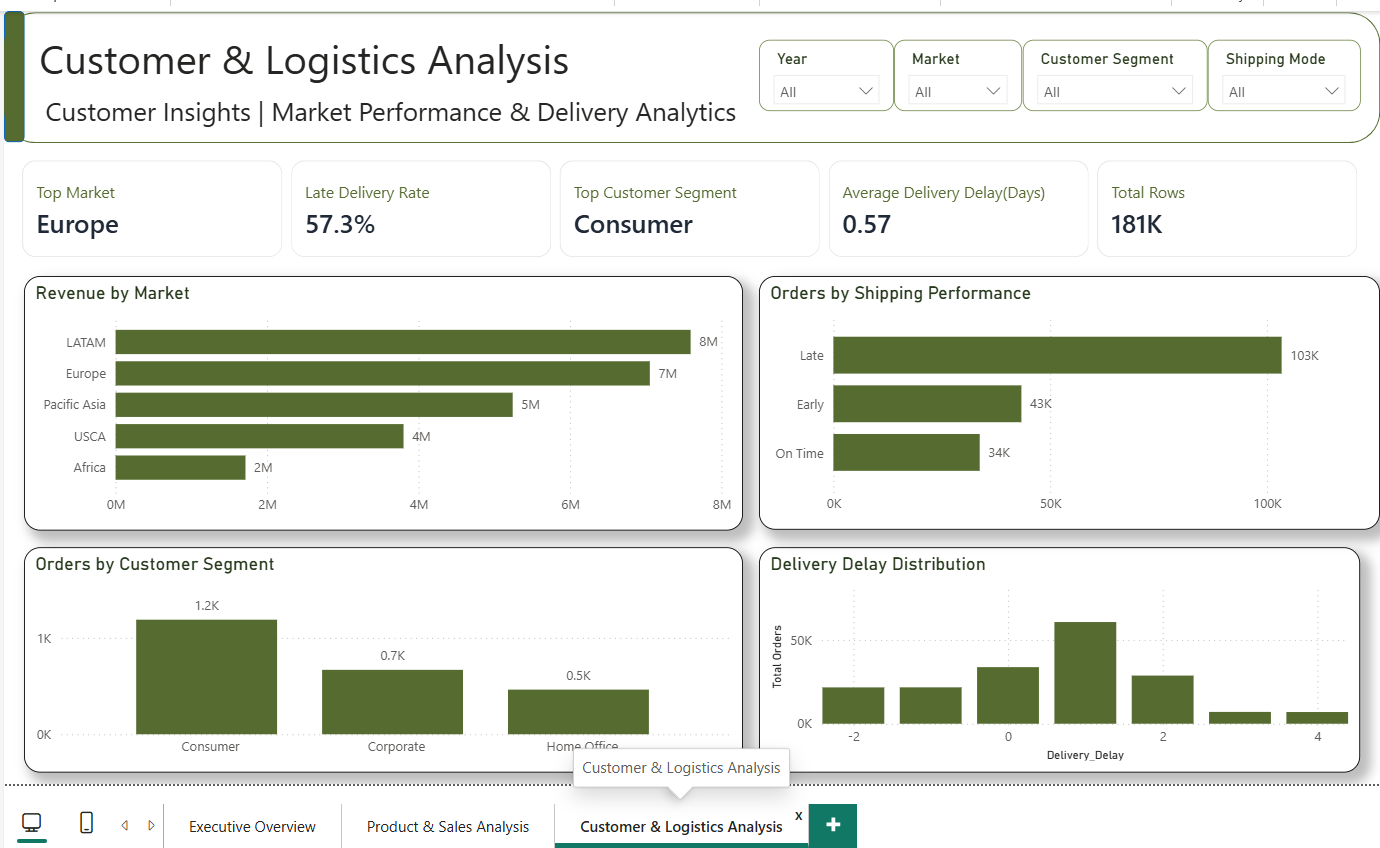

What the dashboard file says about the page in this screenshot:
{"tool":"powerbi","page":{"name":"Customer & Logistics Analysis","canvas":[1280,720],"ordinal":2},"visuals":[{"type":"textbox","box":[33.8,71.7,680.7,51.4],"z":0},{"type":"cardVisual","fields":{"Data":["Measure.Top Market","Measure.Late Delivery Rate","Measure.Top Customer Segment","Measure.Average Delivery Delay","Measure.Total Rows"]},"box":[0,122.1,1280.3,124.9],"z":1000},{"type":"textbox","box":[28.4,13.5,538.6,66.3],"z":2000},{"type":"shape","box":[0,0,19.2,122.1],"z":3000},{"type":"shape","box":[0,1.4,1280.3,121.8],"z":4000},{"type":"clusteredBarChart","title":"Revenue by Market","fields":{"Category":["Fact_supply_chain.Market"],"Y":["Measure.Total Revenue"]},"box":[18.9,246.3,668.6,236.8],"z":5000},{"type":"clusteredColumnChart","title":"Orders by Customer Segment","fields":{"Category":["Fact_supply_chain.Customer_Segment"],"Y":["Measure.Total Orders"]},"box":[18.9,499.4,668.6,209.8],"z":6000},{"type":"clusteredColumnChart","title":"Delivery Delay Distribution","fields":{"Category":["Fact_supply_chain.Delivery_Delay"],"Y":["Measure.Total Orders"]},"box":[702.4,499.4,558.9,209.8],"z":7000},{"type":"slicer","fields":{"Values":["Fact_supply_chain.Shipping_Mode"]},"box":[1119.2,27.1,142.1,66.3],"z":8000},{"type":"slicer","fields":{"Values":["Fact_supply_chain.Customer_Segment"]},"box":[947.3,27.1,171.9,66.3],"z":9000},{"type":"slicer","fields":{"Values":["Fact_supply_chain.Market"]},"box":[828.3,27.1,119.1,66.3],"z":10000},{"type":"slicer","fields":{"Values":["Dim_Date.Year"]},"box":[702.4,27.1,125.9,66.3],"z":11000},{"type":"clusteredBarChart","title":"Orders by Shipping Performance","fields":{"Category":["Fact_supply_chain.Shipping_Performance"],"Y":["Measure.Total Orders"]},"box":[702.3,246.5,577.9,236],"z":12000}]}

Visuals, with their boxes on the page's 1280x720 design canvas (x1, y1, x2, y2). These are canvas units, not pixel positions in the 1380x848 screenshot, which may show the page scaled, cropped or inside an application window:
textbox: x1=34, y1=72, x2=714, y2=123
cardVisual - Measure.Top Market x Measure.Late Delivery Rate: x1=0, y1=122, x2=1280, y2=247
textbox: x1=28, y1=14, x2=567, y2=80
shape: x1=0, y1=0, x2=19, y2=122
shape: x1=0, y1=1, x2=1280, y2=123
"Revenue by Market" clusteredBarChart: x1=19, y1=246, x2=688, y2=483
"Orders by Customer Segment" clusteredColumnChart: x1=19, y1=499, x2=688, y2=709
"Delivery Delay Distribution" clusteredColumnChart: x1=702, y1=499, x2=1261, y2=709
slicer - Fact_supply_chain.Shipping_Mode: x1=1119, y1=27, x2=1261, y2=93
slicer - Fact_supply_chain.Customer_Segment: x1=947, y1=27, x2=1119, y2=93
slicer - Fact_supply_chain.Market: x1=828, y1=27, x2=947, y2=93
slicer - Dim_Date.Year: x1=702, y1=27, x2=828, y2=93
"Orders by Shipping Performance" clusteredBarChart: x1=702, y1=246, x2=1280, y2=482
